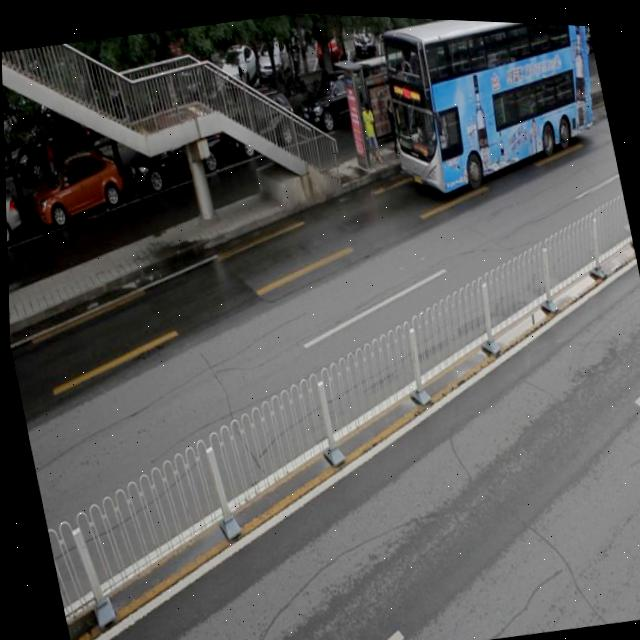car: (23, 145, 128, 235), (120, 118, 229, 199), (290, 63, 383, 144), (219, 86, 299, 160), (4, 182, 23, 249)
van: (368, 13, 615, 206)
